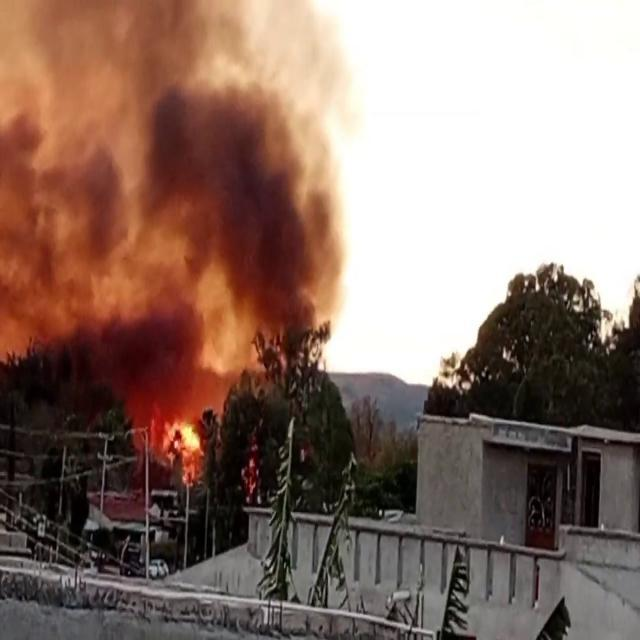Fire: (154, 406, 207, 476)
Smoke: (0, 0, 365, 368)
